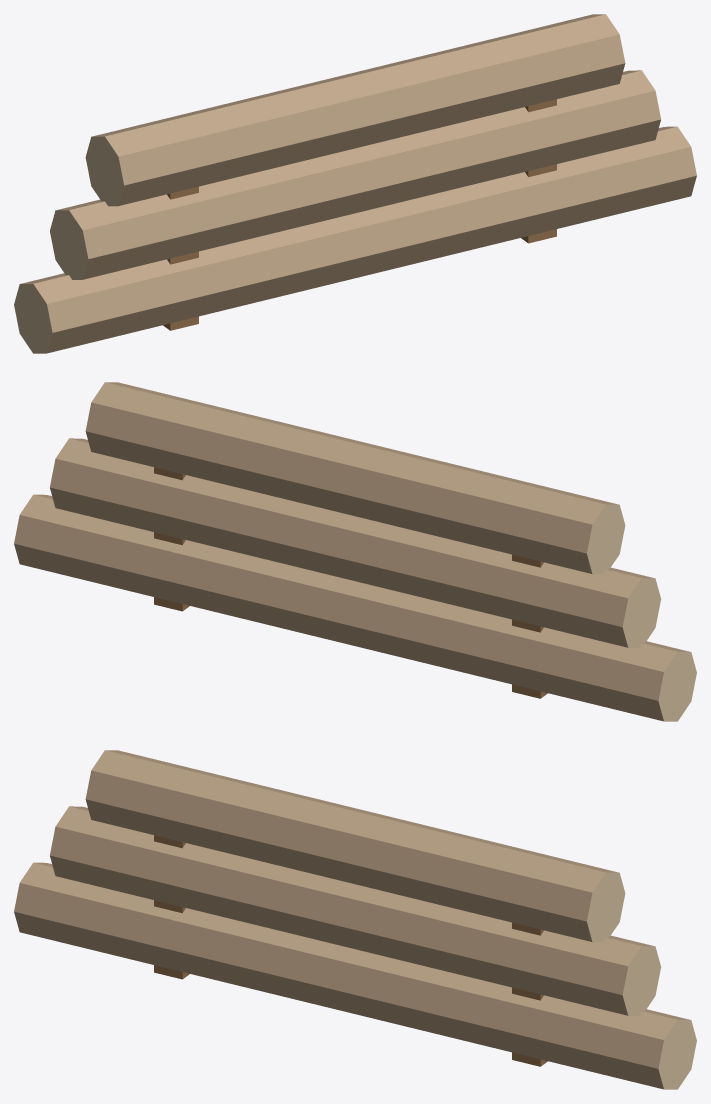
File: ASTX_PROP_WOODPILE.glb
The picture shows the model from 3 angles, top to bottom: view 1: azimuth 30°, elevation 25°; view 2: azimuth 150°, elevation 25°; view 3: azimuth 330°, elevation 25°; orthographic projection.
Visible parts, largest first — view 1: ASTX_PROP_WOODPILE_log0_0, ASTX_PROP_WOODPILE_log2_0, ASTX_PROP_WOODPILE_log0_4, ASTX_PROP_WOODPILE_log1_2, ASTX_PROP_WOODPILE_log2_1, ASTX_PROP_WOODPILE_log2_2, ASTX_PROP_WOODPILE_log1_0, ASTX_PROP_WOODPILE_log1_3, ASTX_PROP_WOODPILE_log0_1, ASTX_PROP_WOODPILE_log1_1, ASTX_PROP_WOODPILE_log0_3, ASTX_PROP_WOODPILE_log0_2 (+2 smaller); view 2: ASTX_PROP_WOODPILE_log2_0, ASTX_PROP_WOODPILE_log1_0, ASTX_PROP_WOODPILE_log2_2, ASTX_PROP_WOODPILE_log0_1, ASTX_PROP_WOODPILE_log0_4, ASTX_PROP_WOODPILE_log0_0, ASTX_PROP_WOODPILE_log1_2, ASTX_PROP_WOODPILE_log1_3, ASTX_PROP_WOODPILE_log2_1, ASTX_PROP_WOODPILE_log1_1, ASTX_PROP_WOODPILE_log0_3, ASTX_PROP_WOODPILE_log0_2 (+2 smaller); view 3: ASTX_PROP_WOODPILE_log2_2, ASTX_PROP_WOODPILE_log1_3, ASTX_PROP_WOODPILE_log1_1, ASTX_PROP_WOODPILE_log0_3, ASTX_PROP_WOODPILE_log2_1, ASTX_PROP_WOODPILE_log2_0, ASTX_PROP_WOODPILE_log0_0, ASTX_PROP_WOODPILE_log0_4, ASTX_PROP_WOODPILE_log1_0, ASTX_PROP_WOODPILE_log1_2, ASTX_PROP_WOODPILE_log0_2, ASTX_PROP_WOODPILE_log0_1 (+2 smaller).
Part boxes in pixels (left/top/right/bottom): ASTX_PROP_WOODPILE_log0_0: left=14, top=235, right=410, bottom=353; ASTX_PROP_WOODPILE_log2_0: left=85, top=73, right=478, bottom=206; ASTX_PROP_WOODPILE_log0_4: left=324, top=126, right=696, bottom=262; ASTX_PROP_WOODPILE_log1_2: left=217, top=95, right=588, bottom=231; ASTX_PROP_WOODPILE_log2_1: left=163, top=31, right=553, bottom=187; ASTX_PROP_WOODPILE_log2_2: left=236, top=14, right=625, bottom=149; ASTX_PROP_WOODPILE_log1_0: left=50, top=163, right=446, bottom=279; ASTX_PROP_WOODPILE_log1_3: left=289, top=70, right=660, bottom=205; ASTX_PROP_WOODPILE_log0_1: left=110, top=191, right=481, bottom=335; ASTX_PROP_WOODPILE_log1_1: left=146, top=162, right=509, bottom=262; ASTX_PROP_WOODPILE_log0_3: left=253, top=151, right=625, bottom=275; ASTX_PROP_WOODPILE_log0_2: left=187, top=172, right=553, bottom=312; ASTX_PROP_WOODPILE_log2_0: left=231, top=433, right=625, bottom=574; ASTX_PROP_WOODPILE_log1_0: left=264, top=514, right=660, bottom=647; ASTX_PROP_WOODPILE_log2_2: left=85, top=382, right=474, bottom=507; ASTX_PROP_WOODPILE_log0_1: left=230, top=554, right=600, bottom=703; ASTX_PROP_WOODPILE_log0_4: left=14, top=494, right=386, bottom=630; ASTX_PROP_WOODPILE_log0_0: left=300, top=606, right=696, bottom=721; ASTX_PROP_WOODPILE_log1_2: left=121, top=463, right=493, bottom=591; ASTX_PROP_WOODPILE_log1_3: left=50, top=438, right=421, bottom=566; ASTX_PROP_WOODPILE_log2_1: left=157, top=400, right=547, bottom=543; ASTX_PROP_WOODPILE_log1_1: left=193, top=494, right=564, bottom=630; ASTX_PROP_WOODPILE_log0_3: left=85, top=519, right=457, bottom=633; ASTX_PROP_WOODPILE_log0_2: left=157, top=540, right=516, bottom=673; ASTX_PROP_WOODPILE_log2_2: left=229, top=785, right=625, bottom=942; ASTX_PROP_WOODPILE_log1_3: left=264, top=866, right=660, bottom=1015; ASTX_PROP_WOODPILE_log1_1: left=122, top=831, right=492, bottom=980; ASTX_PROP_WOODPILE_log0_3: left=230, top=922, right=600, bottom=1071; ASTX_PROP_WOODPILE_log2_1: left=157, top=767, right=538, bottom=919; ASTX_PROP_WOODPILE_log2_0: left=85, top=750, right=459, bottom=906; ASTX_PROP_WOODPILE_log0_0: left=14, top=862, right=307, bottom=987; ASTX_PROP_WOODPILE_log0_4: left=300, top=939, right=696, bottom=1089; ASTX_PROP_WOODPILE_log1_0: left=50, top=806, right=417, bottom=933; ASTX_PROP_WOODPILE_log1_2: left=194, top=849, right=565, bottom=998; ASTX_PROP_WOODPILE_log0_2: left=158, top=908, right=517, bottom=1044; ASTX_PROP_WOODPILE_log0_1: left=86, top=888, right=448, bottom=1018.
Size of the model in its own units: 2.7 by 0.81 by 0.28.
